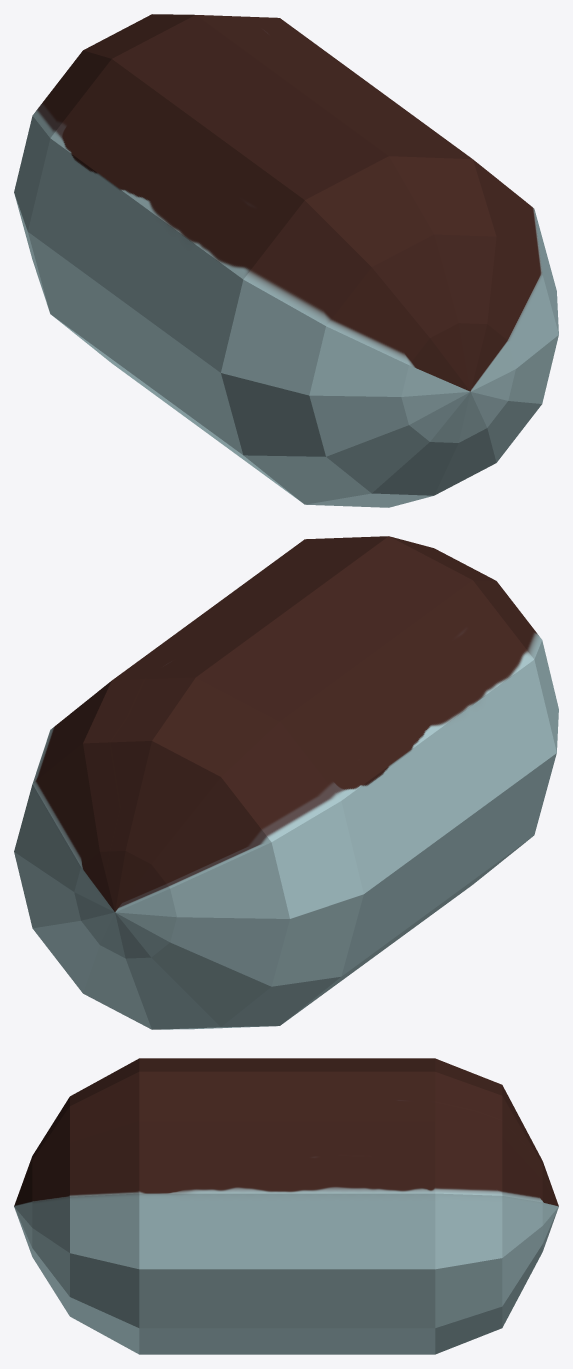
File: ReaperMid.glb
3 views of the same model, one above another, from view 1: azimuth 30°, elevation 25°; view 2: azimuth 150°, elevation 25°; view 3: azimuth 270°, elevation 25° (orthographic). The views are drawn at different scales.
Visible parts, largest first — view 1: ReaperMid; view 2: ReaperMid; view 3: ReaperMid.
Boxes of the visible parts, <box> form: ReaperMid: <box>14,14,558,507</box>; ReaperMid: <box>14,536,558,1029</box>; ReaperMid: <box>14,1058,558,1354</box>.
Bounding box in the file's own units: 3.6 × 3.6 × 6.6.
1 material, 1 textured.
